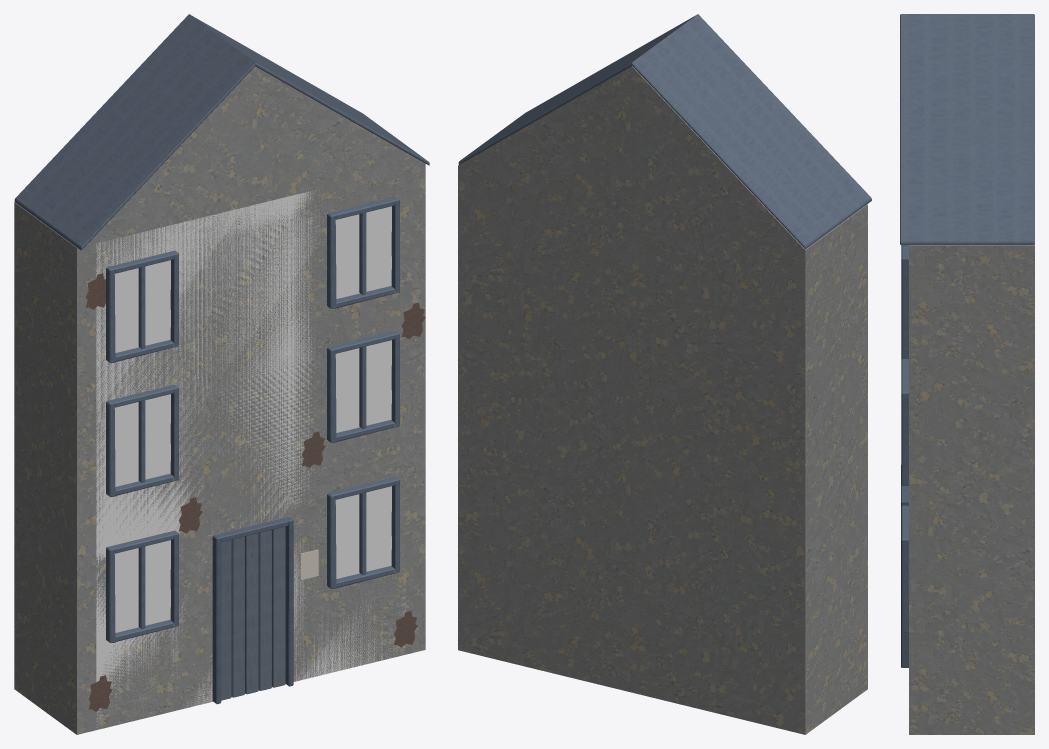
The model's file is env-facade-a.glb.
3 views of the same model, side by side, from view 1: azimuth 30°, elevation 25°; view 2: azimuth 150°, elevation 25°; view 3: azimuth 270°, elevation 25° (orthographic).
Visible parts, largest first — view 1: VIS_plaster, COL_wall, VIS_joinery, VIS_brick; view 2: VIS_plaster, VIS_joinery; view 3: VIS_plaster, VIS_joinery.
Boxes of the visible parts, box(x1,y1,x2,y2) form: VIS_plaster: box(14, 66, 425, 734); COL_wall: box(96, 190, 405, 727); VIS_joinery: box(14, 14, 429, 704); VIS_brick: box(85, 273, 425, 711); VIS_plaster: box(458, 66, 867, 734); VIS_joinery: box(458, 14, 871, 249); VIS_plaster: box(909, 244, 1034, 734); VIS_joinery: box(900, 14, 1034, 667).
Size of the model in its own units: 4.5 by 7.8 by 1.5.
Materials: 3 (3 with a texture image).
